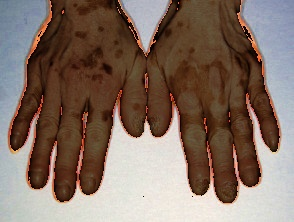vitiligo: (6, 0, 161, 190), (142, 0, 281, 190)
